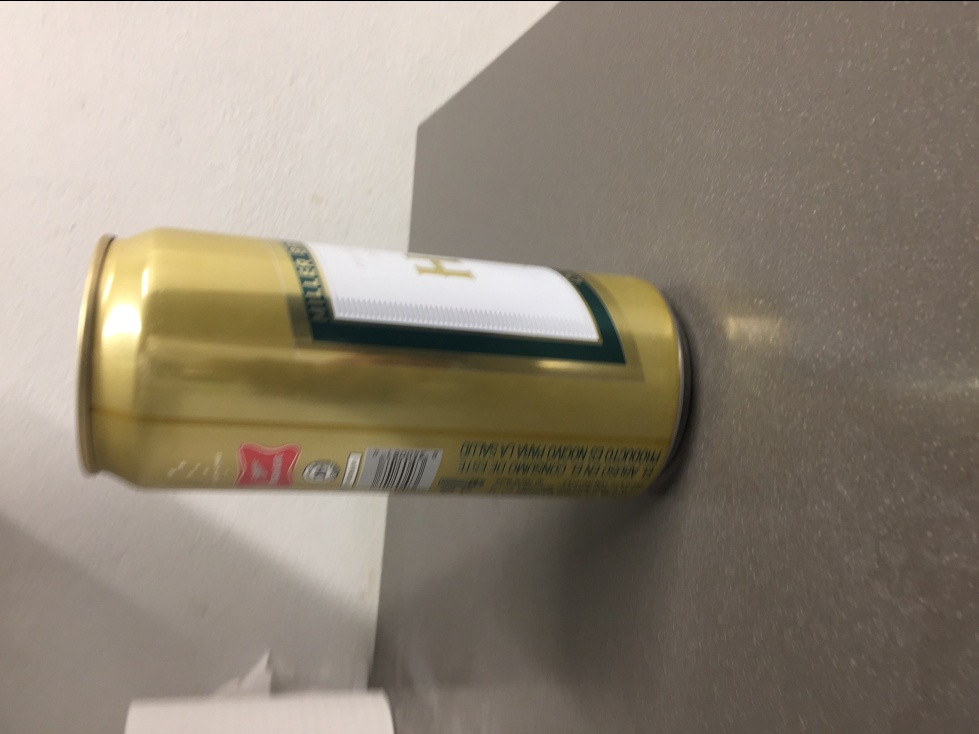miller: (75, 219, 692, 502)
